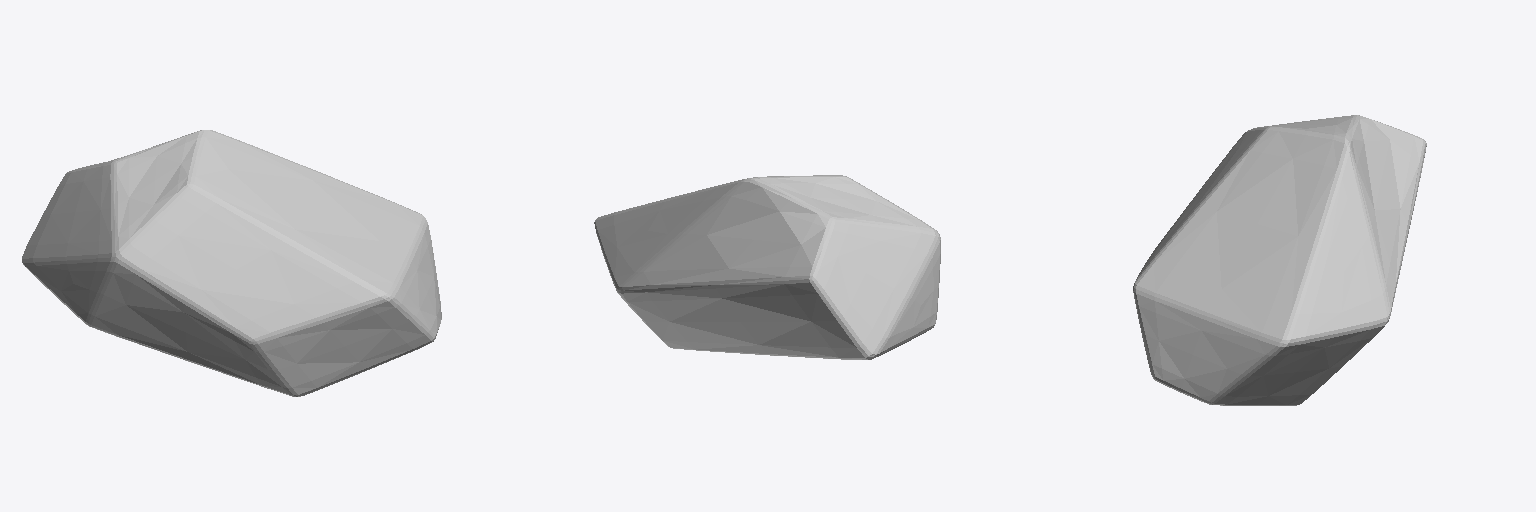
Rendered from rock_tree2_01.obj.
3 renders of one model, left to right at view 1: azimuth 30°, elevation 25°; view 2: azimuth 150°, elevation 25°; view 3: azimuth 270°, elevation 25°, orthographic.
Visible parts, largest first — view 1: rock_tree2_01 Rocks; view 2: rock_tree2_01 Rocks; view 3: rock_tree2_01 Rocks.
Boxes of the visible parts, x1,y1,x2,y2 form: rock_tree2_01 Rocks: [22, 130, 441, 396]; rock_tree2_01 Rocks: [594, 175, 940, 359]; rock_tree2_01 Rocks: [1133, 115, 1426, 405].
Bounding box in the file's own units: 1.42 × 0.8452 × 1.05.